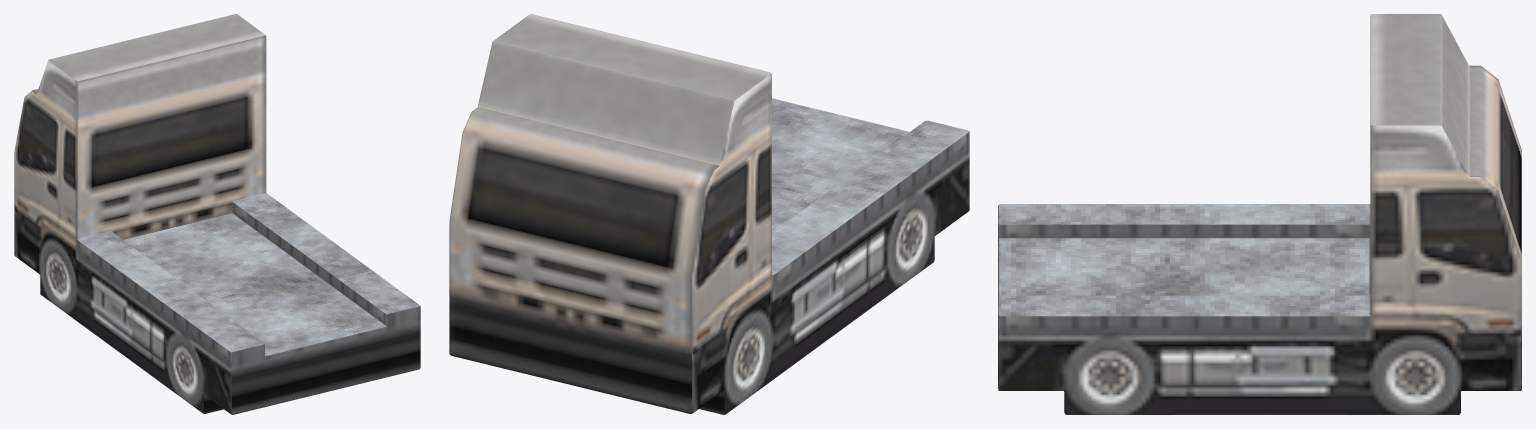
The model's file is truck-flat.glb.
The picture shows the model from 3 angles, left to right: view 1: azimuth 30°, elevation 25°; view 2: azimuth 150°, elevation 25°; view 3: azimuth 270°, elevation 25°; orthographic projection. The views are drawn at different scales.
Parts seen in each view (by area): view 1: truck-flat; view 2: truck-flat; view 3: truck-flat.
Part boxes in pixels (x1,y1,x2,y2): truck-flat: (14,14,420,414); truck-flat: (449,14,969,414); truck-flat: (998,14,1521,414).
Size of the model in its own units: 0.83 by 1.01 by 1.64.
Materials: 2 (2 with a texture image).
